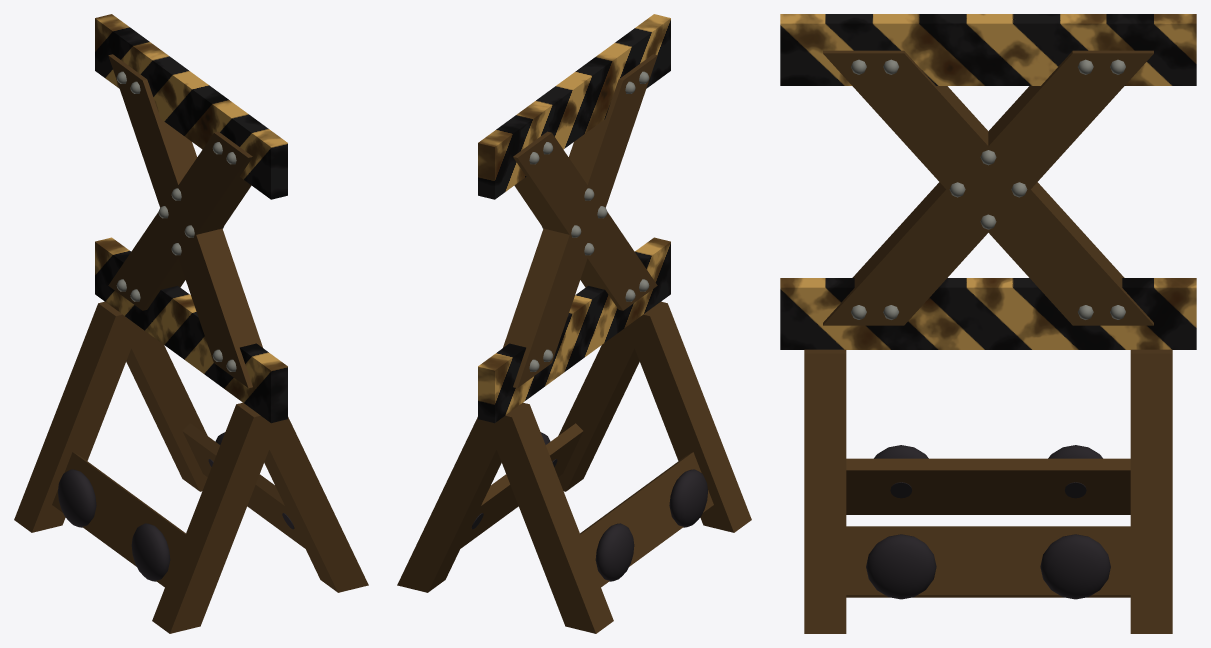
File: CA_071_you_shall_not_pass_signal.glb
3 views of the same model, side by side, from view 1: azimuth 30°, elevation 25°; view 2: azimuth 150°, elevation 25°; view 3: azimuth 270°, elevation 25° (orthographic). The views are drawn at different scales.
Visible parts, largest first — view 1: legs, X_signal, striped_logs, brakes; view 2: legs, X_signal, striped_logs, brakes; view 3: striped_logs, X_signal, brakes, legs.
Boxes of the visible parts, x1=… form: legs: x1=14, y1=301, x2=368, y2=633; X_signal: x1=108, y1=54, x2=262, y2=388; striped_logs: x1=95, y1=14, x2=287, y2=423; brakes: x1=52, y1=423, x2=305, y2=587; legs: x1=397, y1=301, x2=751, y2=633; X_signal: x1=503, y1=54, x2=657, y2=388; striped_logs: x1=478, y1=14, x2=670, y2=423; brakes: x1=460, y1=423, x2=713, y2=587; striped_logs: x1=780, y1=14, x2=1196, y2=349; X_signal: x1=823, y1=50, x2=1153, y2=325; brakes: x1=846, y1=445, x2=1130, y2=599; legs: x1=804, y1=349, x2=1172, y2=633.
Bounding box in the file's own units: 1.15 × 2.61 × 1.77.
Materials: 4 (1 with a texture image).
